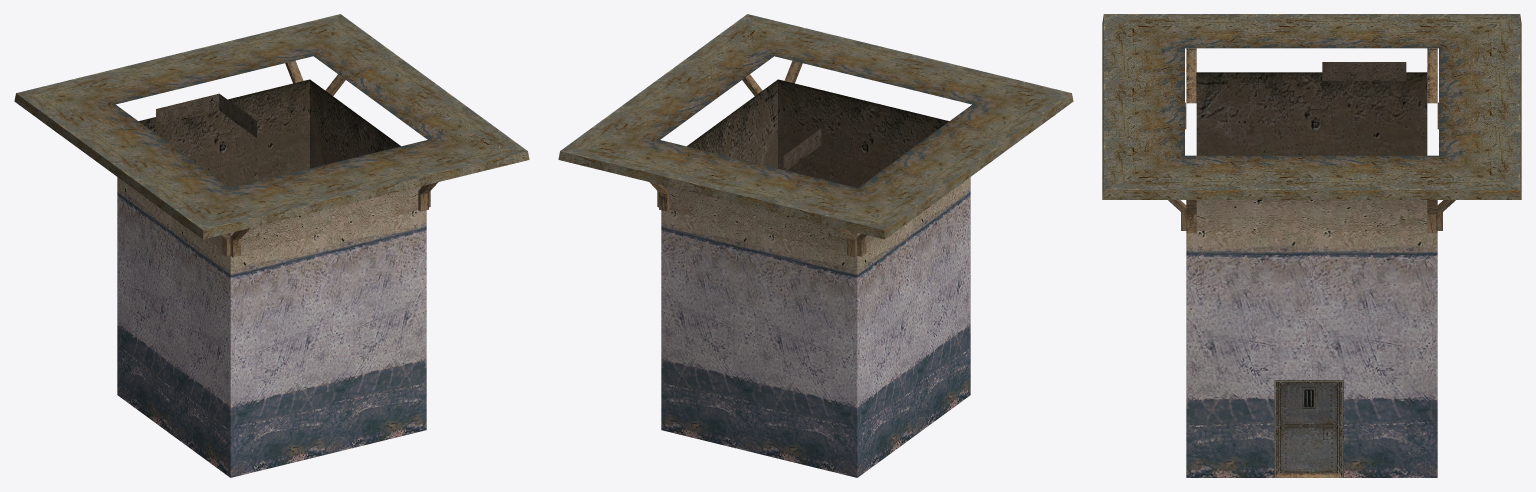
The model's file is M11Z1_GuardTower01.glb.
The picture shows the model from 3 angles, left to right: view 1: azimuth 30°, elevation 25°; view 2: azimuth 150°, elevation 25°; view 3: azimuth 270°, elevation 25°; orthographic projection. The views are drawn at different scales.
Parts seen in each view (by area): view 1: M11Z1_GUARDTOWER01; view 2: M11Z1_GUARDTOWER01; view 3: M11Z1_GUARDTOWER01.
Boxes of the visible parts, x1=… form: M11Z1_GUARDTOWER01: x1=14, y1=14, x2=529, y2=477; M11Z1_GUARDTOWER01: x1=558, y1=14, x2=1073, y2=477; M11Z1_GUARDTOWER01: x1=1102, y1=14, x2=1521, y2=477.
Size of the model in its own units: 10 by 8.5 by 10.
Materials: 7 (7 with a texture image).
